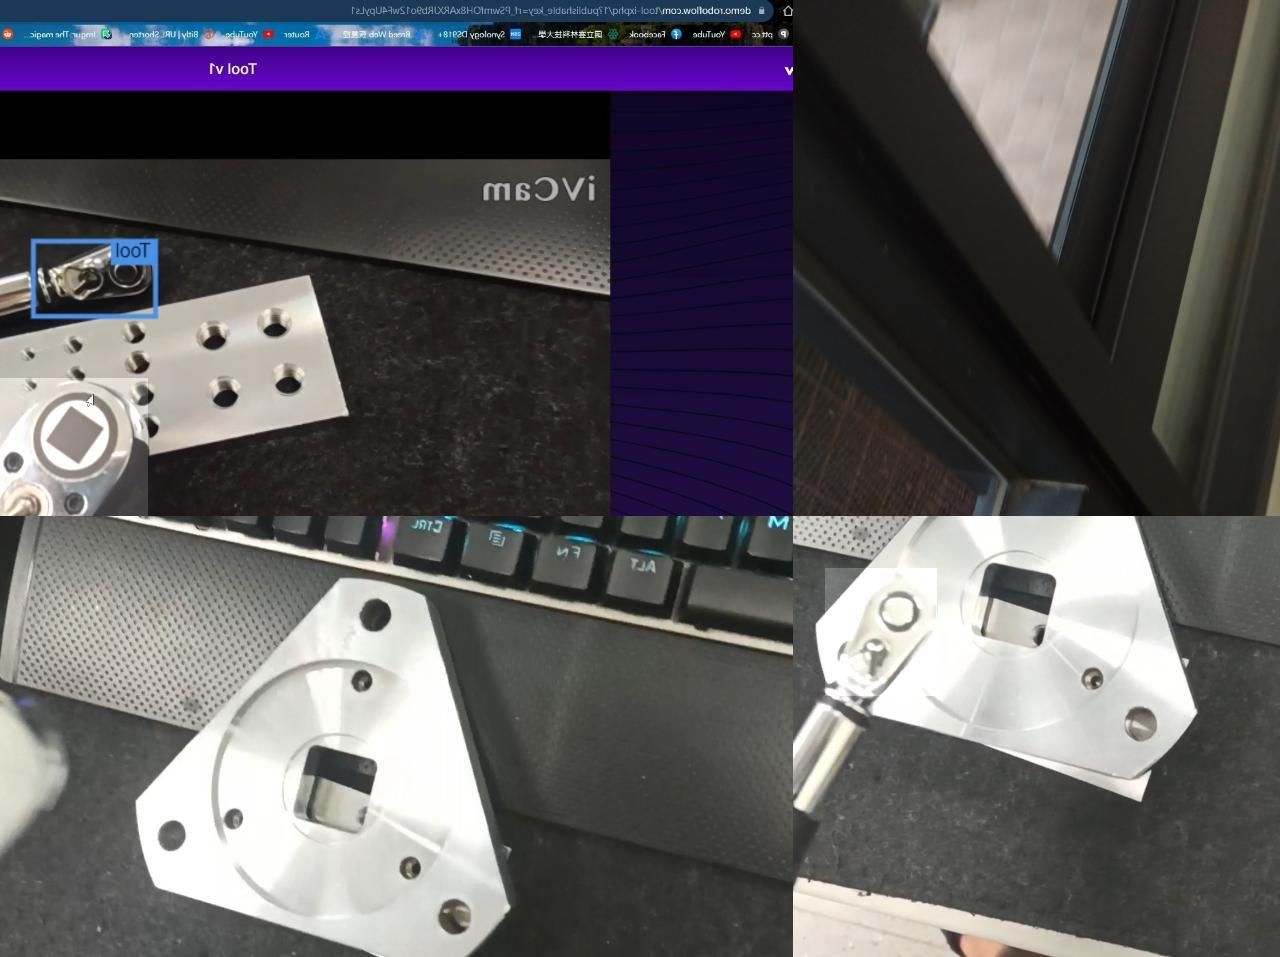Tool: (0, 378, 148, 516), (825, 568, 937, 696)
